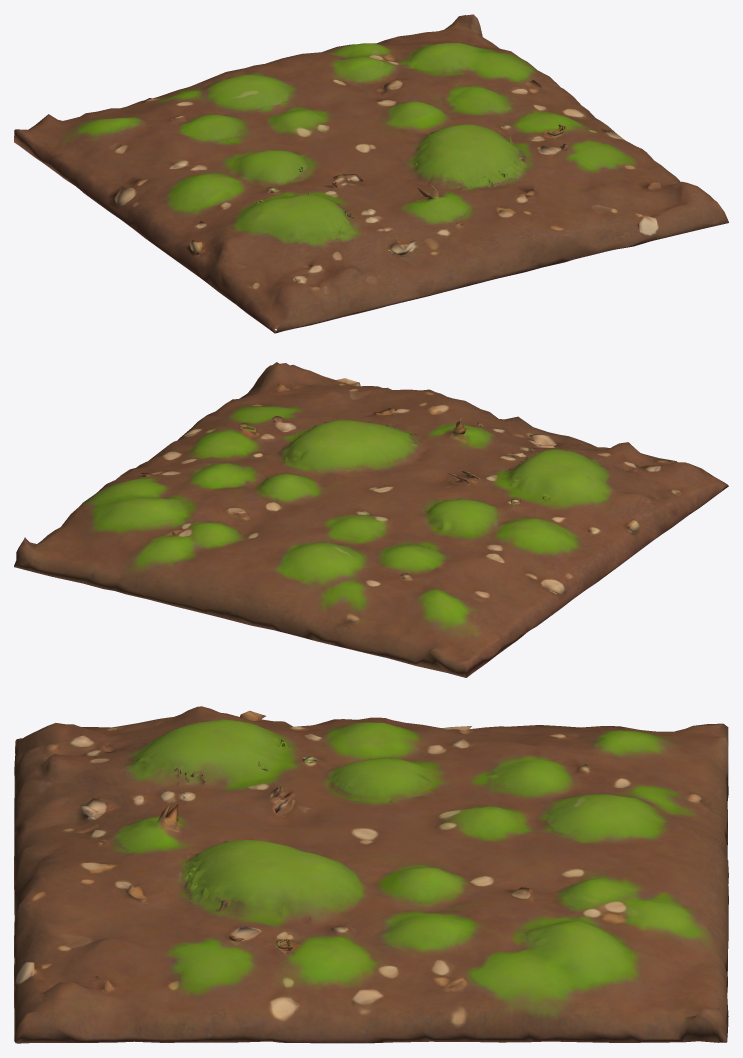
File: ground_0715020225_texture.glb
3 renders of one model, top to bottom at view 1: azimuth 30°, elevation 25°; view 2: azimuth 150°, elevation 25°; view 3: azimuth 270°, elevation 25°, orthographic. The views are drawn at different scales.
Bounding box in the file's own units: 2 × 0.2528 × 2.
1 material, 1 textured.
